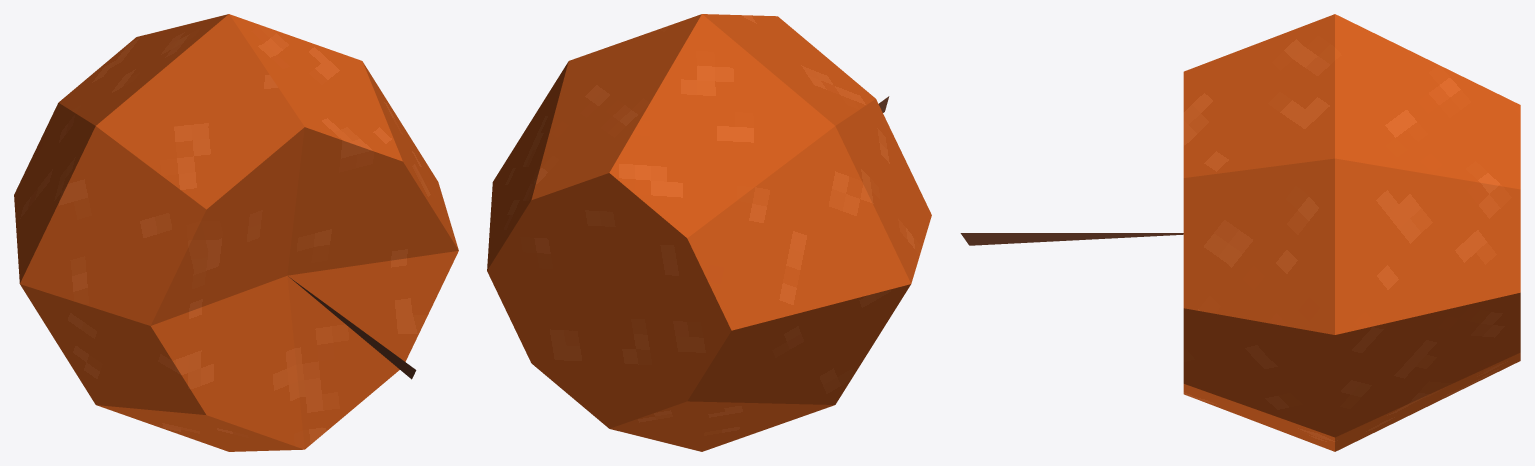
File: orange.fbx
The picture shows the model from 3 angles, left to right: view 1: azimuth 30°, elevation 25°; view 2: azimuth 150°, elevation 25°; view 3: azimuth 270°, elevation 25°; orthographic projection.
Parts seen in each view (by area): view 1: Cube; view 2: Cube; view 3: Cube.
Boxes of the visible parts, x1,y1,x2,y2 form: Cube: [14, 14, 458, 451]; Cube: [487, 14, 931, 451]; Cube: [960, 14, 1520, 451].
Size of the model in its own units: 164 by 164 by 190.
1 material, 1 textured.
